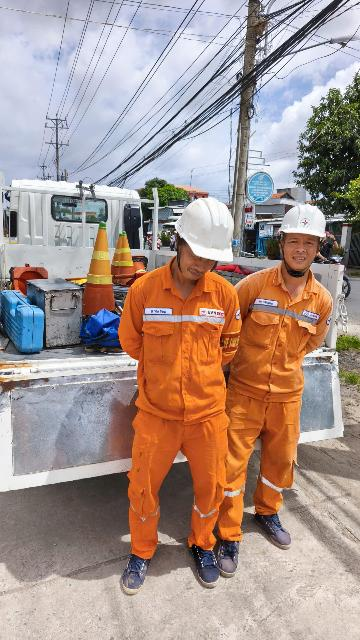helmet: (171, 193, 247, 267), (268, 195, 337, 243)
shoes: (185, 535, 221, 589), (260, 502, 301, 549), (118, 546, 152, 599), (213, 528, 245, 581)
